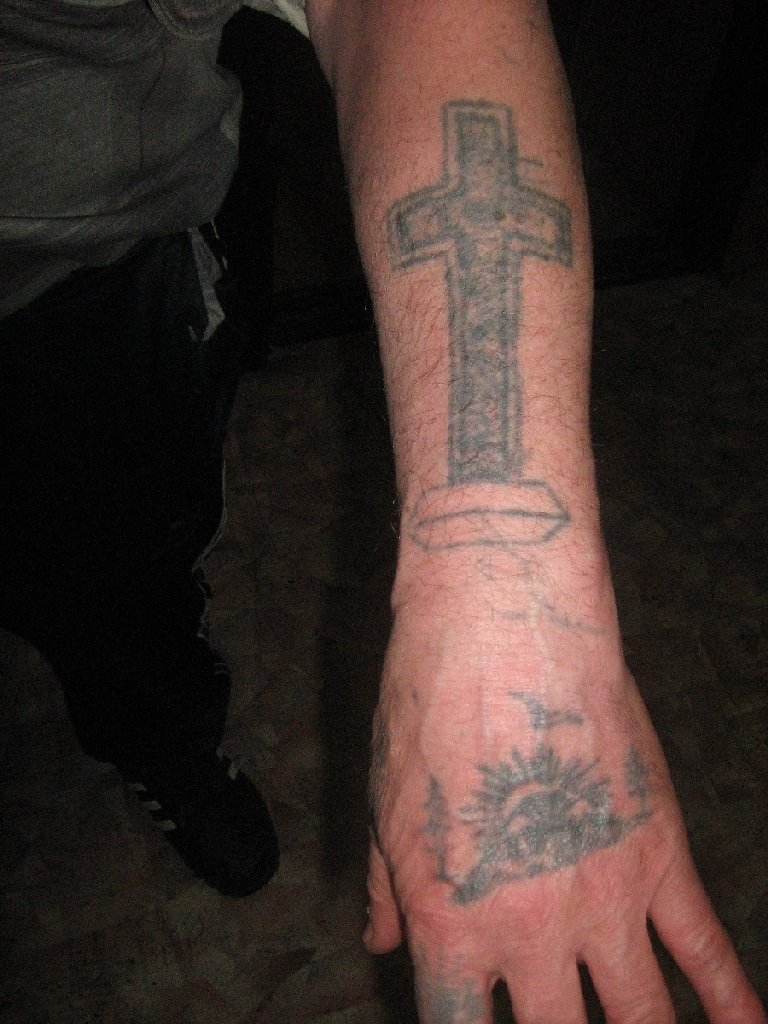tatu9_krest: (390, 83, 579, 518)
